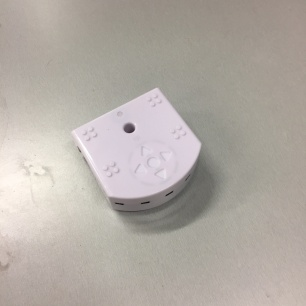thymio: (70, 83, 206, 217)
